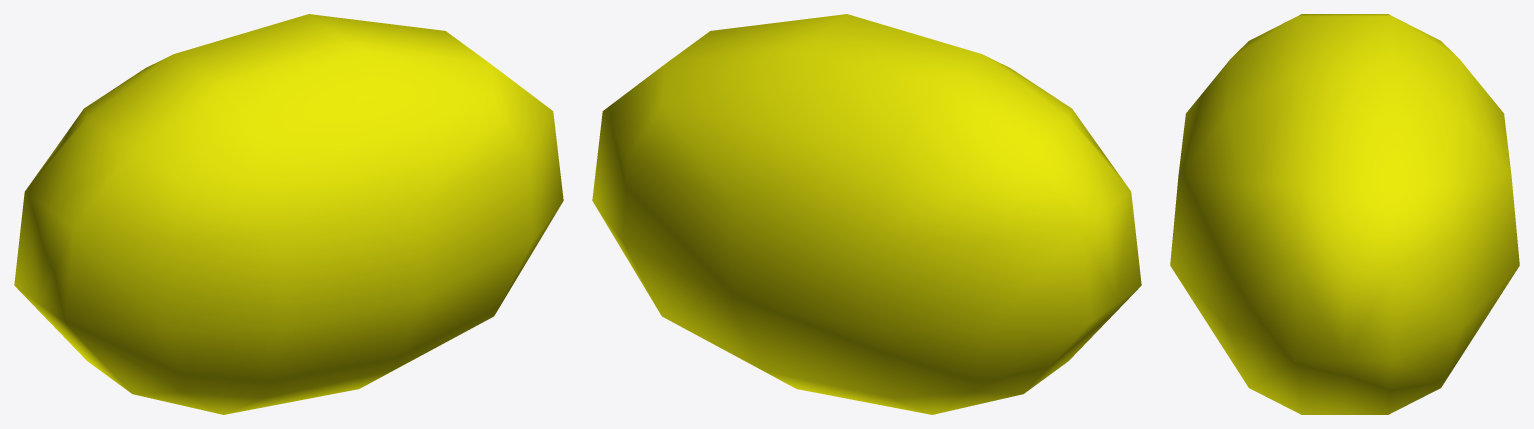
3 views of the same model, side by side, from view 1: azimuth 30°, elevation 25°; view 2: azimuth 150°, elevation 25°; view 3: azimuth 270°, elevation 25° (orthographic). The views are drawn at different scales.
Visible parts, largest first — view 1: grass; view 2: grass; view 3: grass.
Part boxes in pixels (bbox=[...]): grass: bbox=[14, 14, 563, 414]; grass: bbox=[592, 14, 1141, 414]; grass: bbox=[1170, 14, 1519, 414].
Size of the model in its own units: 2.49 by 1.61 by 1.58.
1 material, 1 textured.
